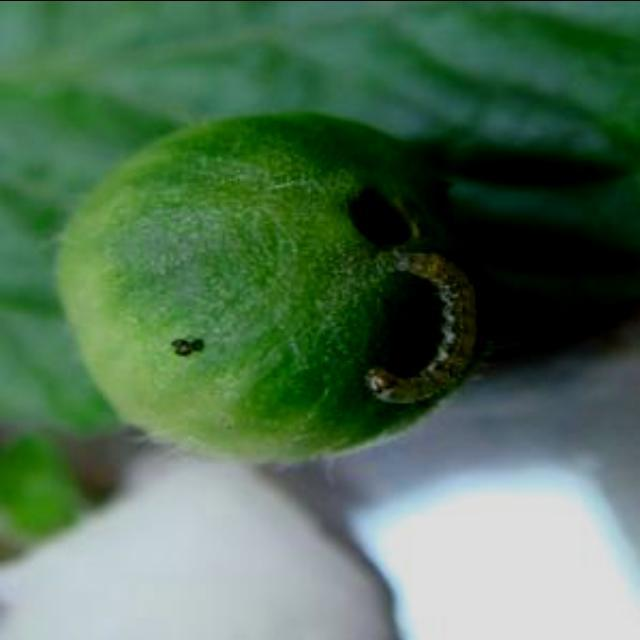Cotton bollworm: (328, 218, 508, 430)
